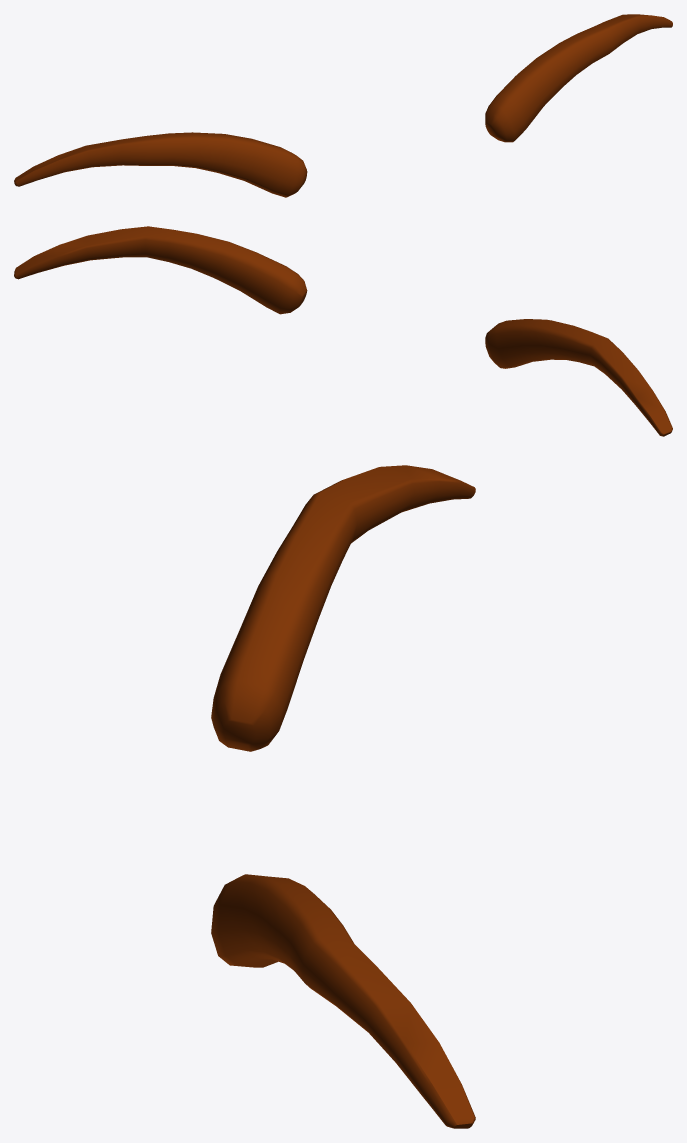
The model's file is Eyebrows_30_02.fbx.
The picture shows the model from 3 angles, top to bottom: view 1: azimuth 30°, elevation 25°; view 2: azimuth 150°, elevation 25°; view 3: azimuth 270°, elevation 25°; orthographic projection. The views are drawn at different scales.
Visible parts, largest first — view 1: Eyebrows_30_02; view 2: Eyebrows_30_02; view 3: Eyebrows_30_02.
Boxes of the visible parts, x1=… form: Eyebrows_30_02: x1=14, y1=14, x2=672, y2=197; Eyebrows_30_02: x1=14, y1=226, x2=672, y2=436; Eyebrows_30_02: x1=211, y1=465, x2=475, y2=1128.
Bounding box in the file's own units: 19.88 × 2.07 × 3.47.
